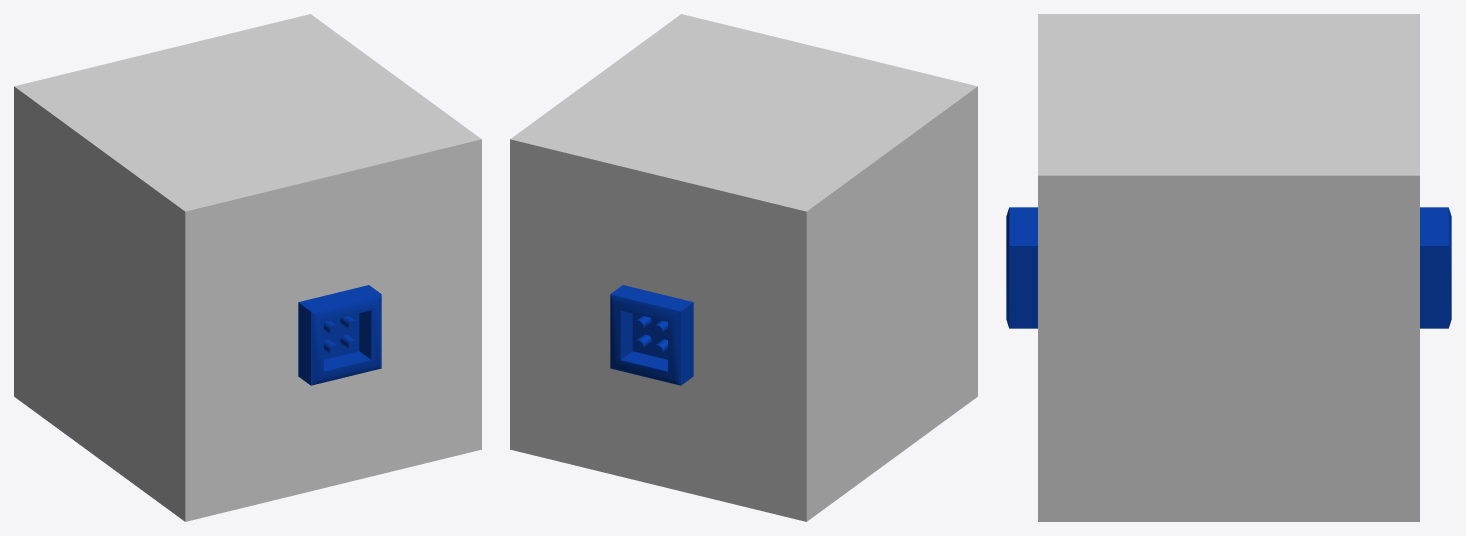
Rendered from DataBridge.gltf.
3 views of the same model, side by side, from view 1: azimuth 30°, elevation 25°; view 2: azimuth 150°, elevation 25°; view 3: azimuth 270°, elevation 25° (orthographic). The views are drawn at different scales.
Visible parts, largest first — view 1: body; view 2: body; view 3: body.
Part boxes in pixels (box(x1,y1,x2,y2)): body: box(14, 14, 481, 521); body: box(510, 14, 977, 521); body: box(1006, 14, 1451, 521).
Bounding box in the file's own units: 0.25 × 0.25 × 0.2913.
